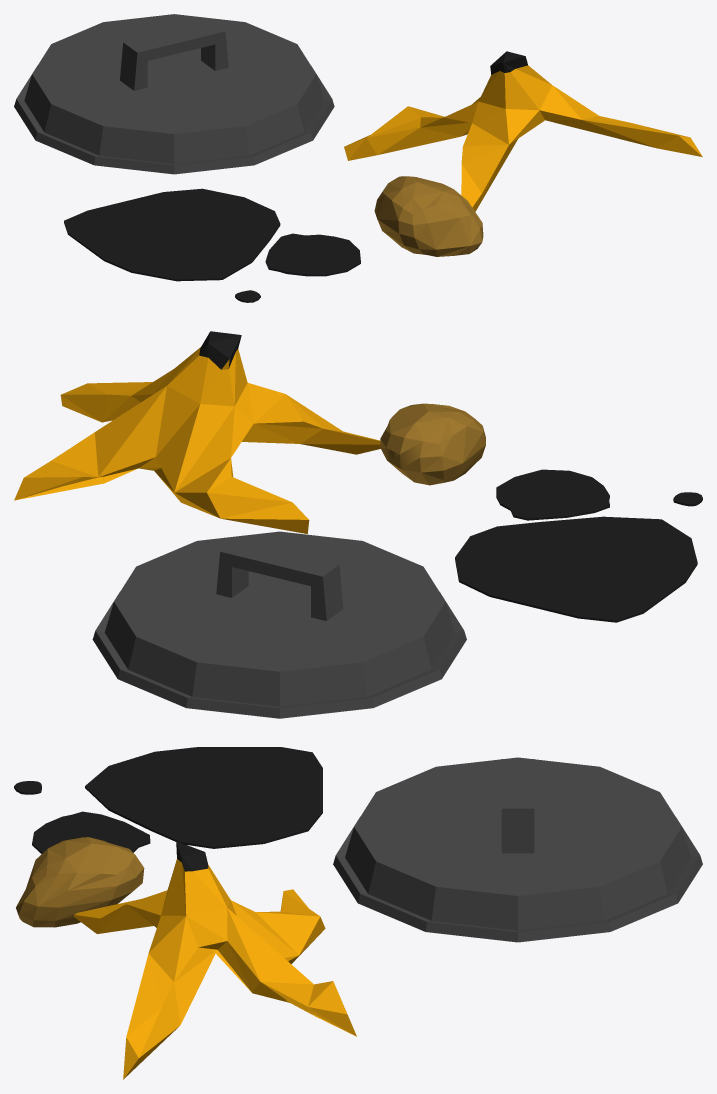
Rendered from Powerups.FBX.
3 views of the same model, one above another, from view 1: azimuth 30°, elevation 25°; view 2: azimuth 150°, elevation 25°; view 3: azimuth 270°, elevation 25° (orthographic). The views are drawn at different scales.
Visible parts, largest first — view 1: Plane156, Plane155, Plane152, Box320; view 2: Plane156, Plane152, Plane155, Box320; view 3: Plane156, Plane152, Plane155, Box320.
Part boxes in pixels (left/top/right/bottom): Plane156: left=14, top=14, right=334, bottom=174; Plane155: left=64, top=188, right=360, bottom=302; Plane152: left=344, top=51, right=702, bottom=211; Box320: left=374, top=176, right=483, bottom=256; Plane156: left=92, top=531, right=466, bottom=718; Plane152: left=14, top=331, right=380, bottom=533; Plane155: left=455, top=469, right=702, bottom=622; Box320: left=380, top=403, right=485, bottom=485; Plane156: left=333, top=757, right=702, bottom=942; Plane152: left=74, top=841, right=356, bottom=1079; Plane155: left=14, top=747, right=322, bottom=853; Box320: left=16, top=837, right=144, bottom=927.
Size of the model in its own units: 1.58 by 1.44 by 0.322.
